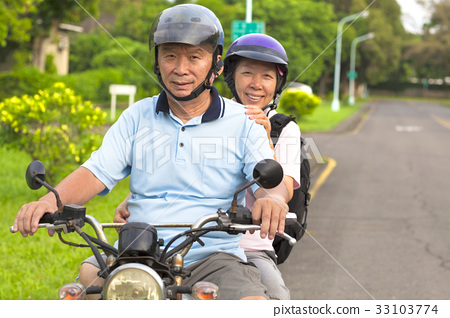helmet: (152, 1, 226, 49), (227, 28, 292, 74)
